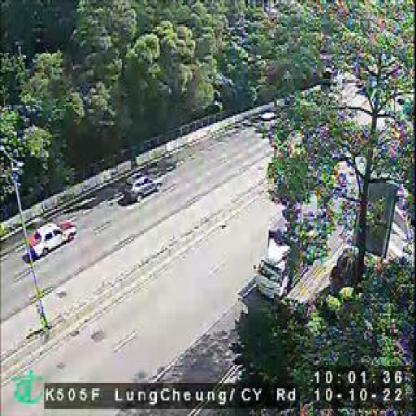Car: (27, 220, 74, 262), (124, 170, 162, 205), (258, 110, 280, 132)
Truck: (254, 203, 326, 302)
